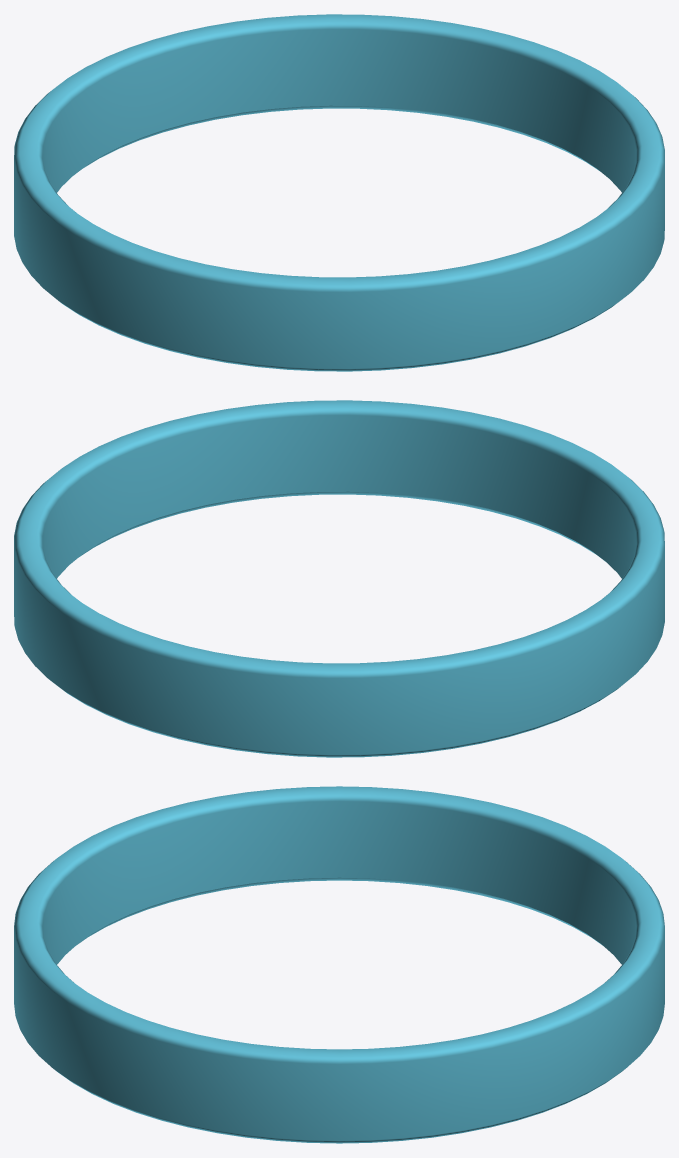
The picture shows the model from 3 angles, top to bottom: view 1: azimuth 30°, elevation 25°; view 2: azimuth 150°, elevation 25°; view 3: azimuth 270°, elevation 25°; orthographic projection.
Visible parts, largest first — view 1: seal_body; view 2: seal_body; view 3: seal_body.
Boxes of the visible parts, <box> form: seal_body: <box>14,14,664,371</box>; seal_body: <box>14,400,664,757</box>; seal_body: <box>14,786,664,1143</box>.
Size of the model in its own units: 0.108 by 0.0159 by 0.108.
